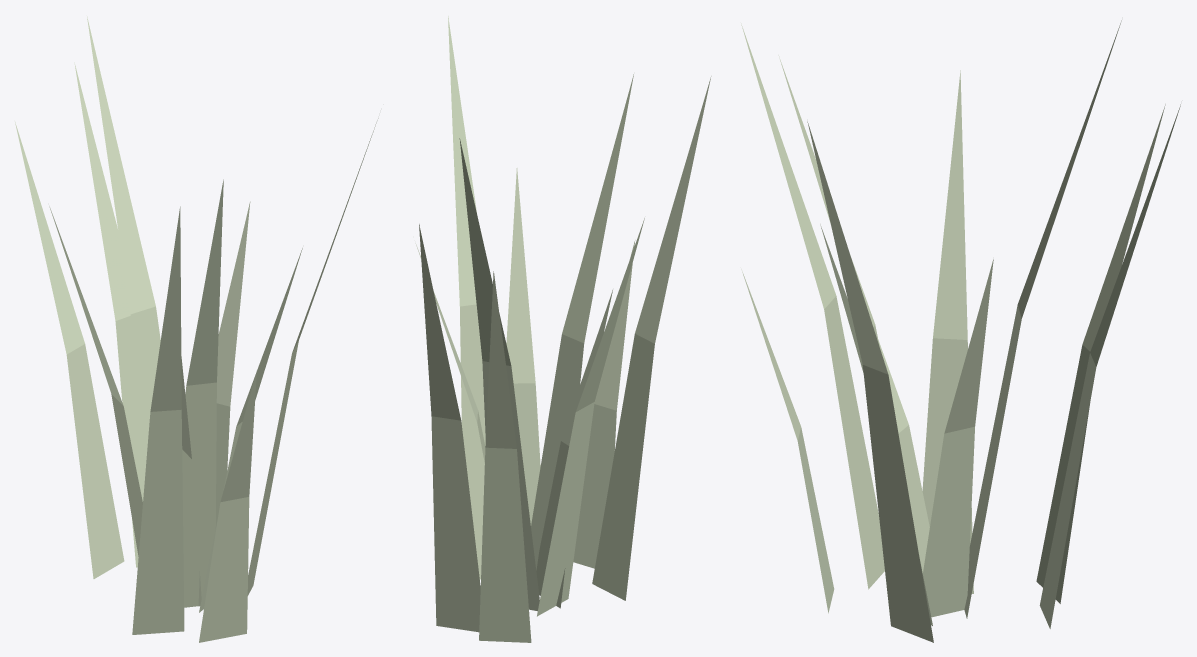
File: grass_tuft.glb
3 views of the same model, side by side, from view 1: azimuth 30°, elevation 25°; view 2: azimuth 150°, elevation 25°; view 3: azimuth 270°, elevation 25° (orthographic). The views are drawn at different scales.
Parts seen in each view (by area): view 1: grass_tuft_m; view 2: grass_tuft_m; view 3: grass_tuft_m.
Part boxes in pixels (x1,y1,x2,y2): grass_tuft_m: (15,16,378,642); grass_tuft_m: (415,16,711,642); grass_tuft_m: (741,20,1180,642).
Size of the model in its own units: 0.5256 by 0.9921 by 0.6799.
